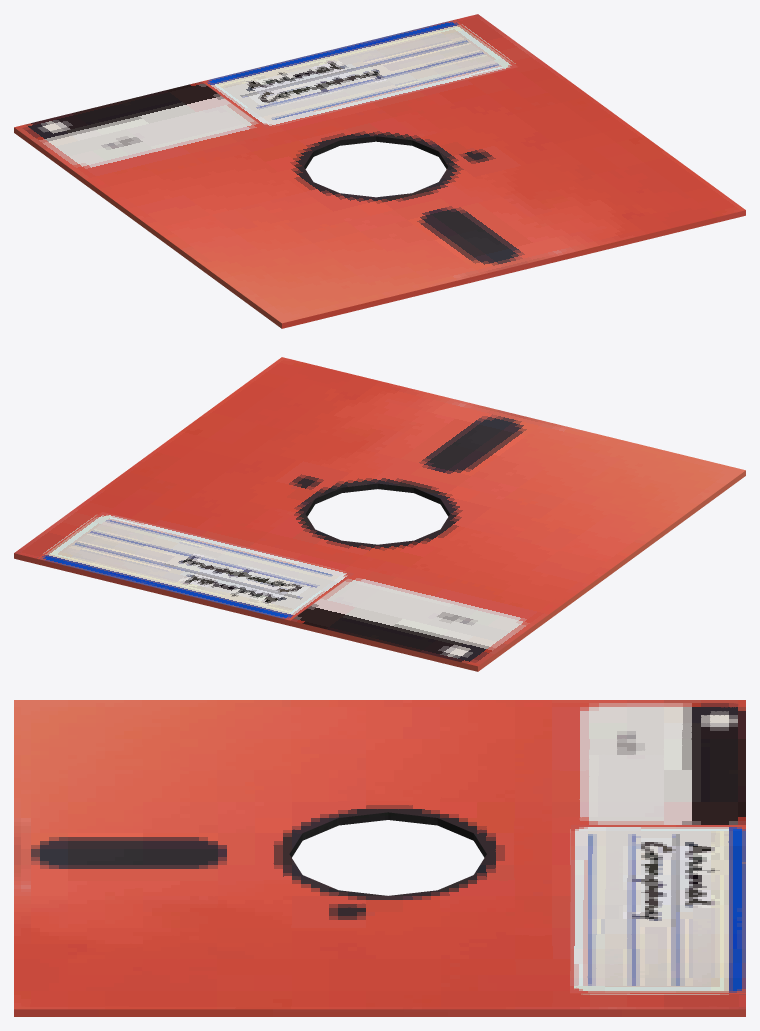
The model's file is item_floppy5.glb.
3 renders of one model, top to bottom at view 1: azimuth 30°, elevation 25°; view 2: azimuth 150°, elevation 25°; view 3: azimuth 270°, elevation 25°, orthographic. The views are drawn at different scales.
Visible parts, largest first — view 1: Office_Floppy5; view 2: Office_Floppy5; view 3: Office_Floppy5.
Boxes of the visible parts, box(x1,y1,x2,y2) form: Office_Floppy5: box(14, 14, 745, 328); Office_Floppy5: box(14, 357, 745, 671); Office_Floppy5: box(14, 700, 745, 1016).
Size of the model in its own units: 0.3001 by 0.00341 by 0.3001.
Materials: 1 (1 with a texture image).
